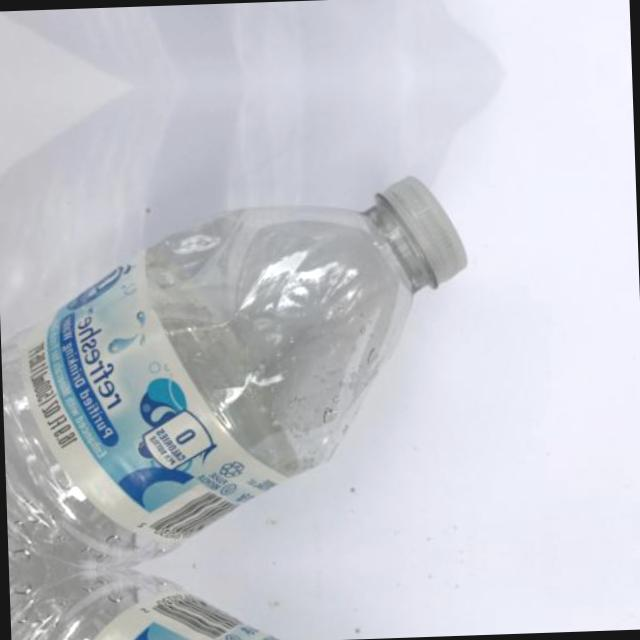Plastic: (0, 142, 526, 571), (9, 553, 529, 640), (0, 0, 507, 19)
